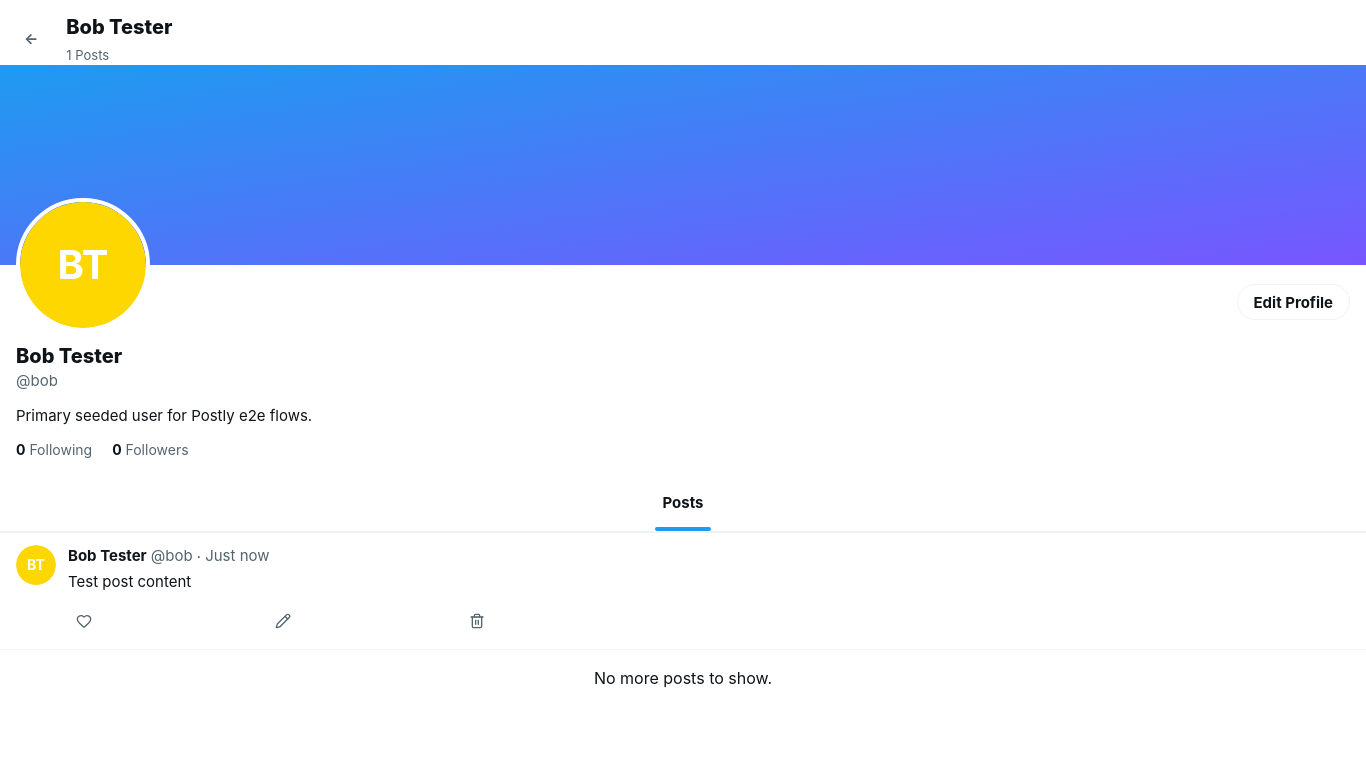
profile editing UI › enters inline edit mode with the required profile form hooks
The image size is (1366, 761).
Click the button with test id "profile-edit-button" at (1293, 302), box [1236,284,1350,320]
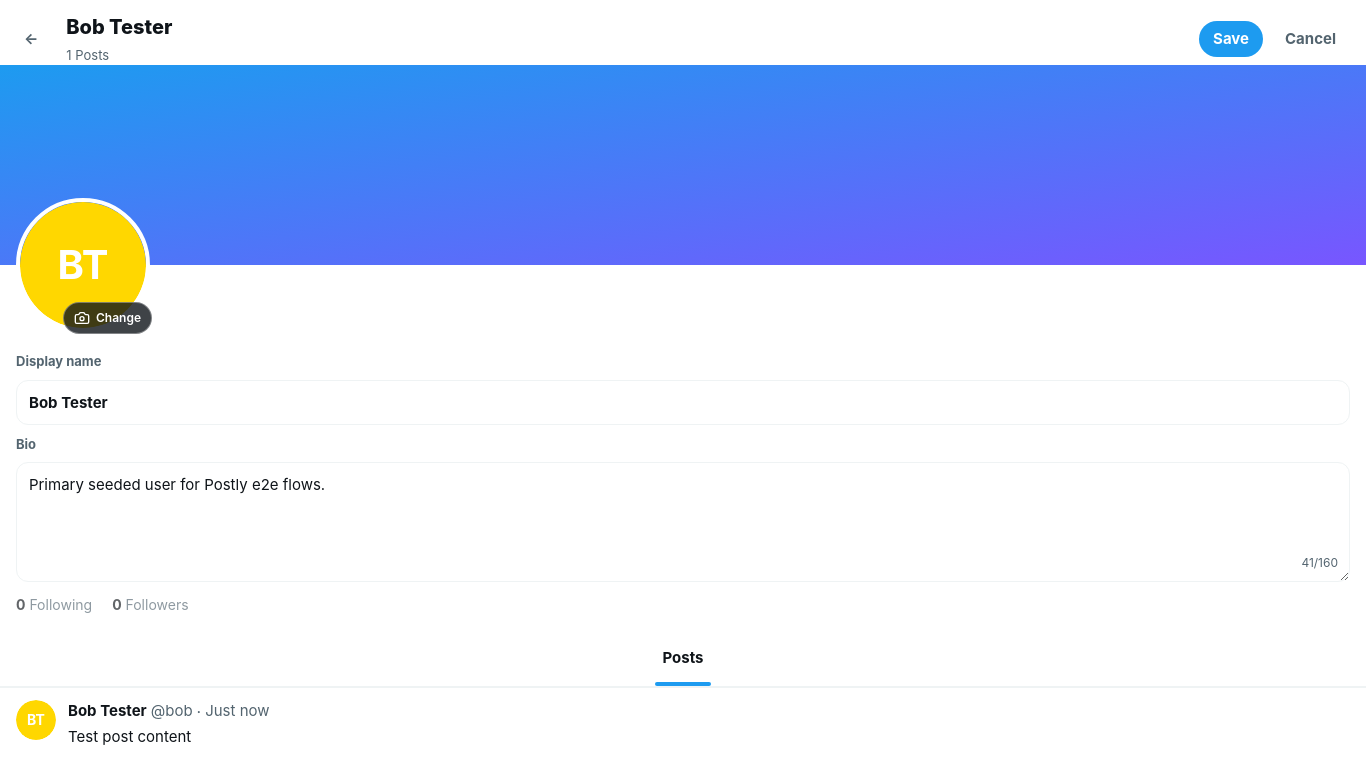
Expected: the element with test id "profile-edit-form" is shown, [16,352,1350,582]
Expected: the field with test id "profile-display-name-input" holds "Bob Tester", [16,380,1350,424]
Expected: the text box with test id "profile-bio-input" holds "Primary seeded user for Postly e2e flows.", [16,462,1350,582]
